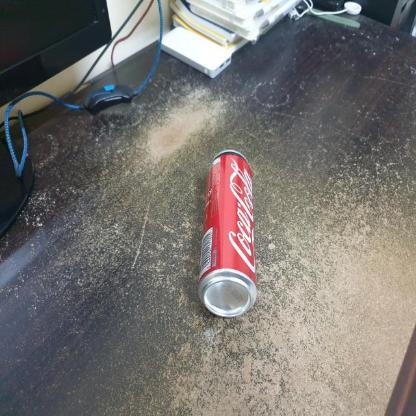Can: (194, 150, 260, 322)
